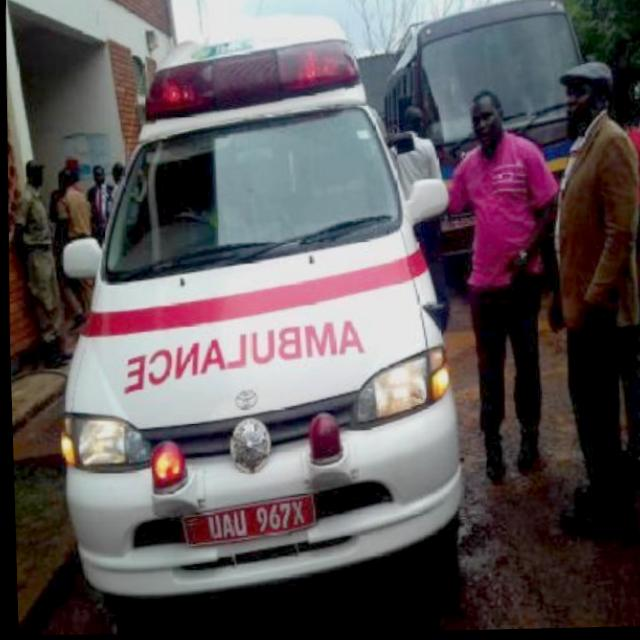emergency: (44, 28, 473, 609)
